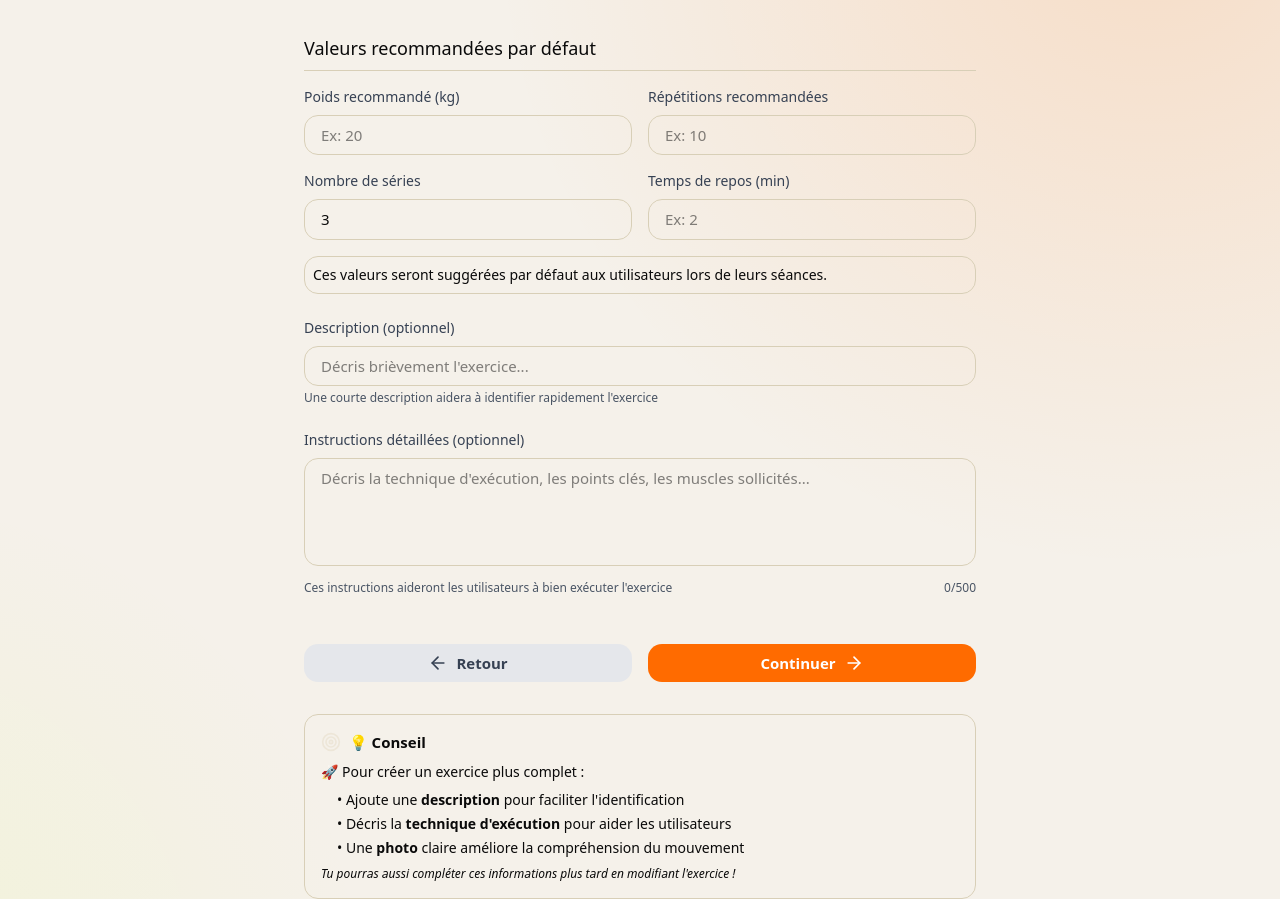
CustomForm - Test d'Intégration Champs Optionnels › doit afficher le compteur de caractères pour les instructions
(page scrolled)
Expected: the text "0/500" is shown, [944, 580, 976, 596]
Note: Taper du texte
Type "Test instructions" into the text box with placeholder "Décris la technique d'exécution" at (640, 512), box [304, 458, 976, 566]
(page scrolled)
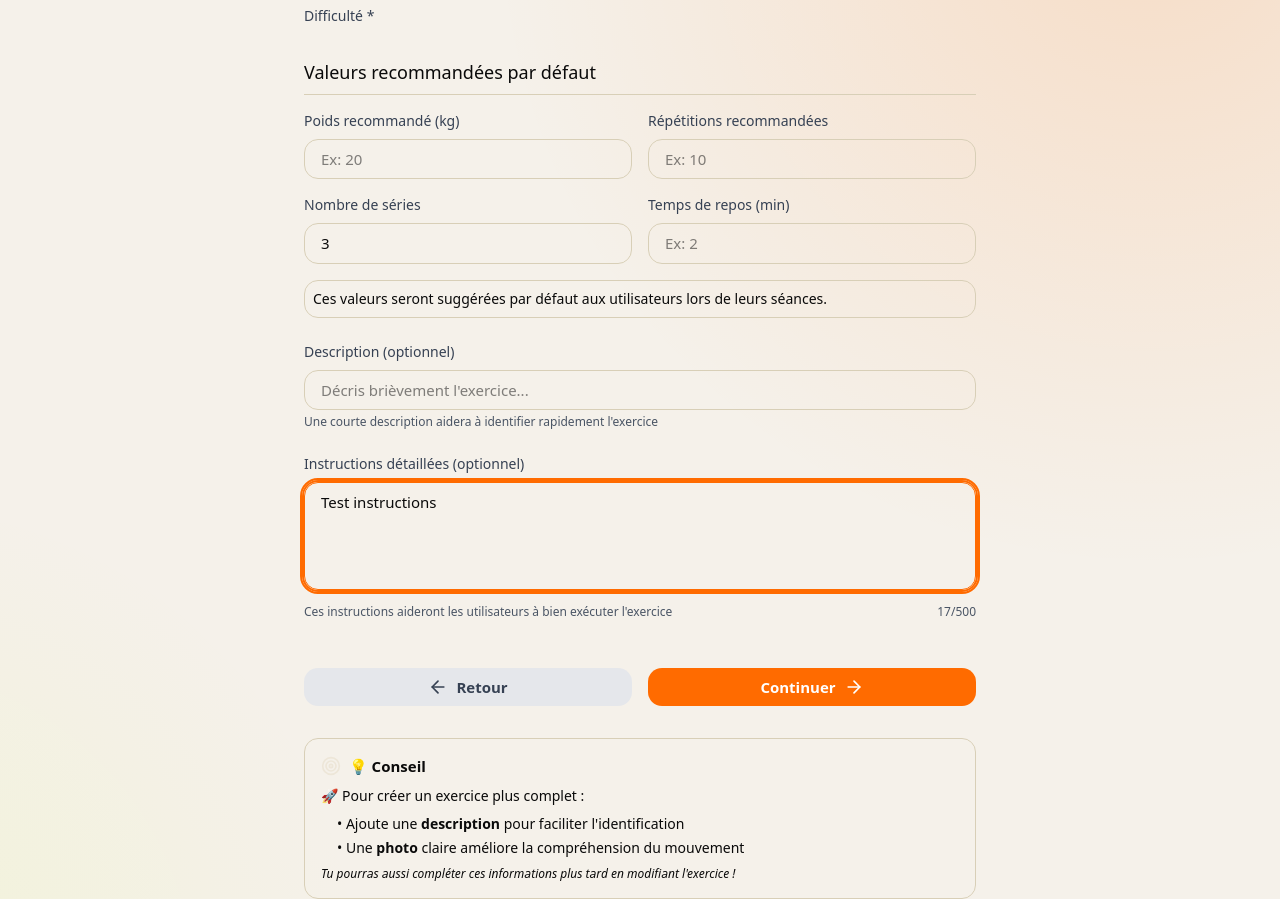
Now the text "17/500" is shown, box [937, 604, 976, 620]
